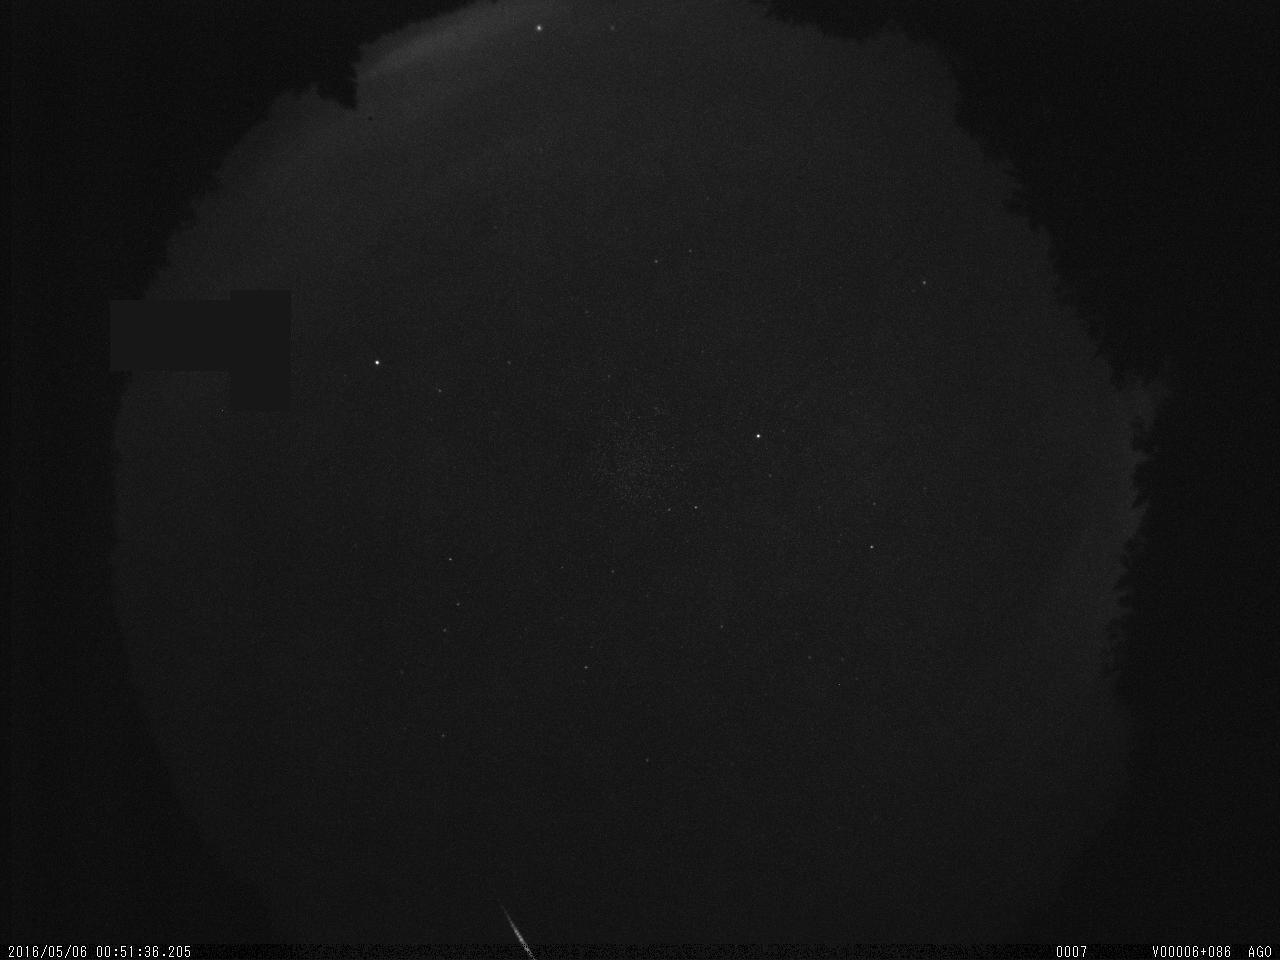Meteor: (483, 879, 551, 960)
